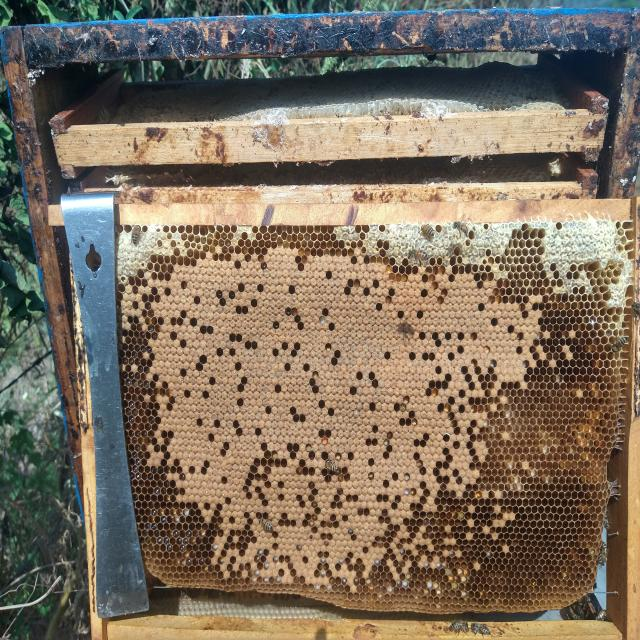cria: (120, 244, 598, 596)
marco: (115, 230, 626, 625)
